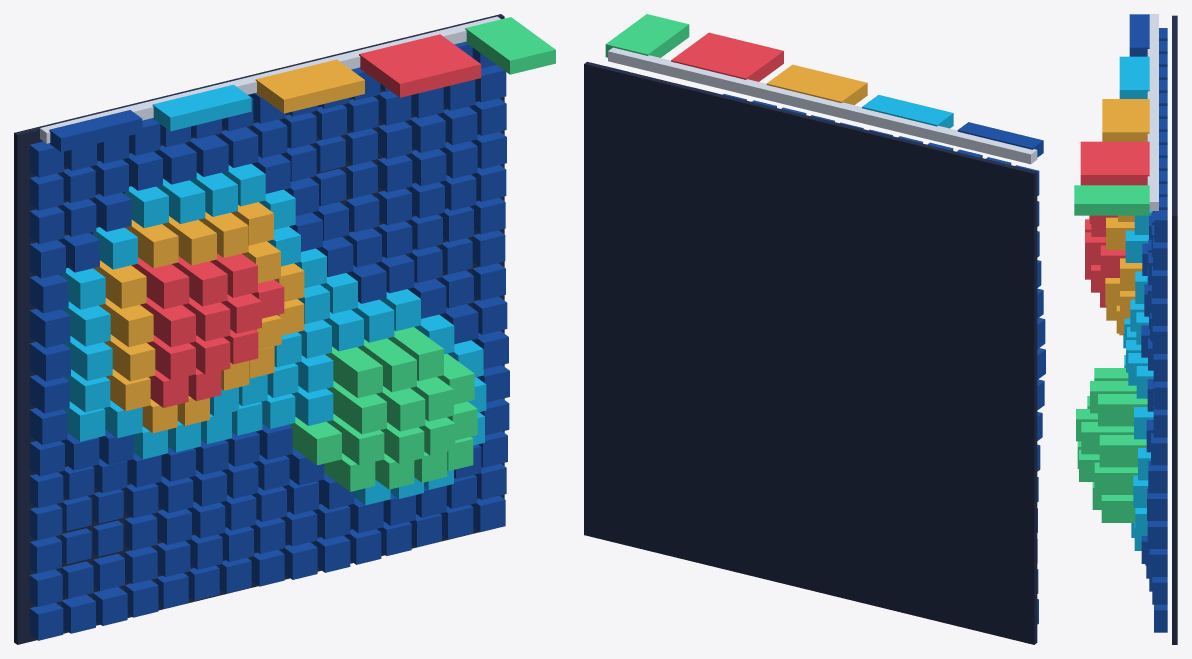
3 views of the same model, side by side, from view 1: azimuth 30°, elevation 25°; view 2: azimuth 150°, elevation 25°; view 3: azimuth 270°, elevation 25° (orthographic). The views are drawn at different scales.
Visible parts, largest first — view 1: image-heightfield-mask; view 2: image-heightfield-mask; view 3: image-heightfield-mask.
Part boxes in pixels (bbox=[...]): image-heightfield-mask: bbox=[14, 14, 555, 644]; image-heightfield-mask: bbox=[584, 14, 1045, 644]; image-heightfield-mask: bbox=[1074, 14, 1177, 644].
Bounding box in the file's own units: 6.6 × 6.74 × 1.44.
